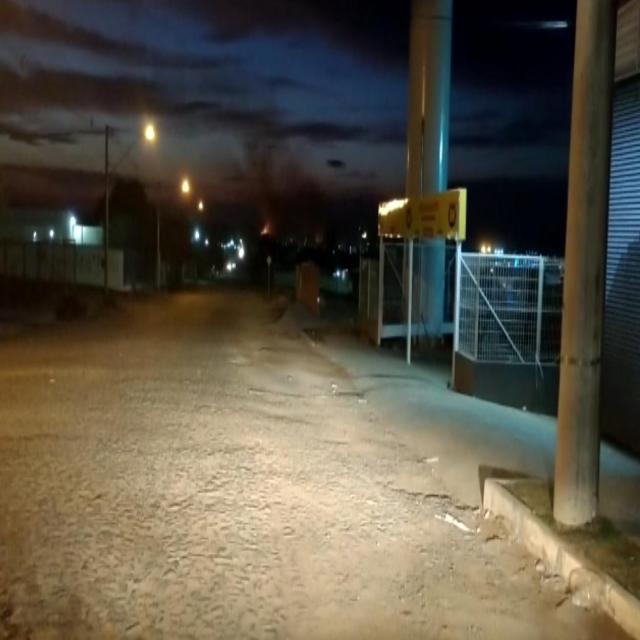Fire: (260, 224, 267, 236)
